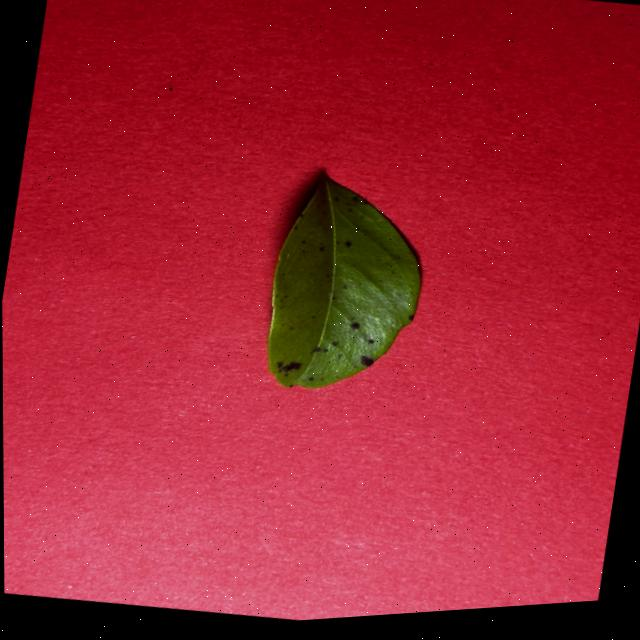sooty_mold: (267, 174, 420, 386)
